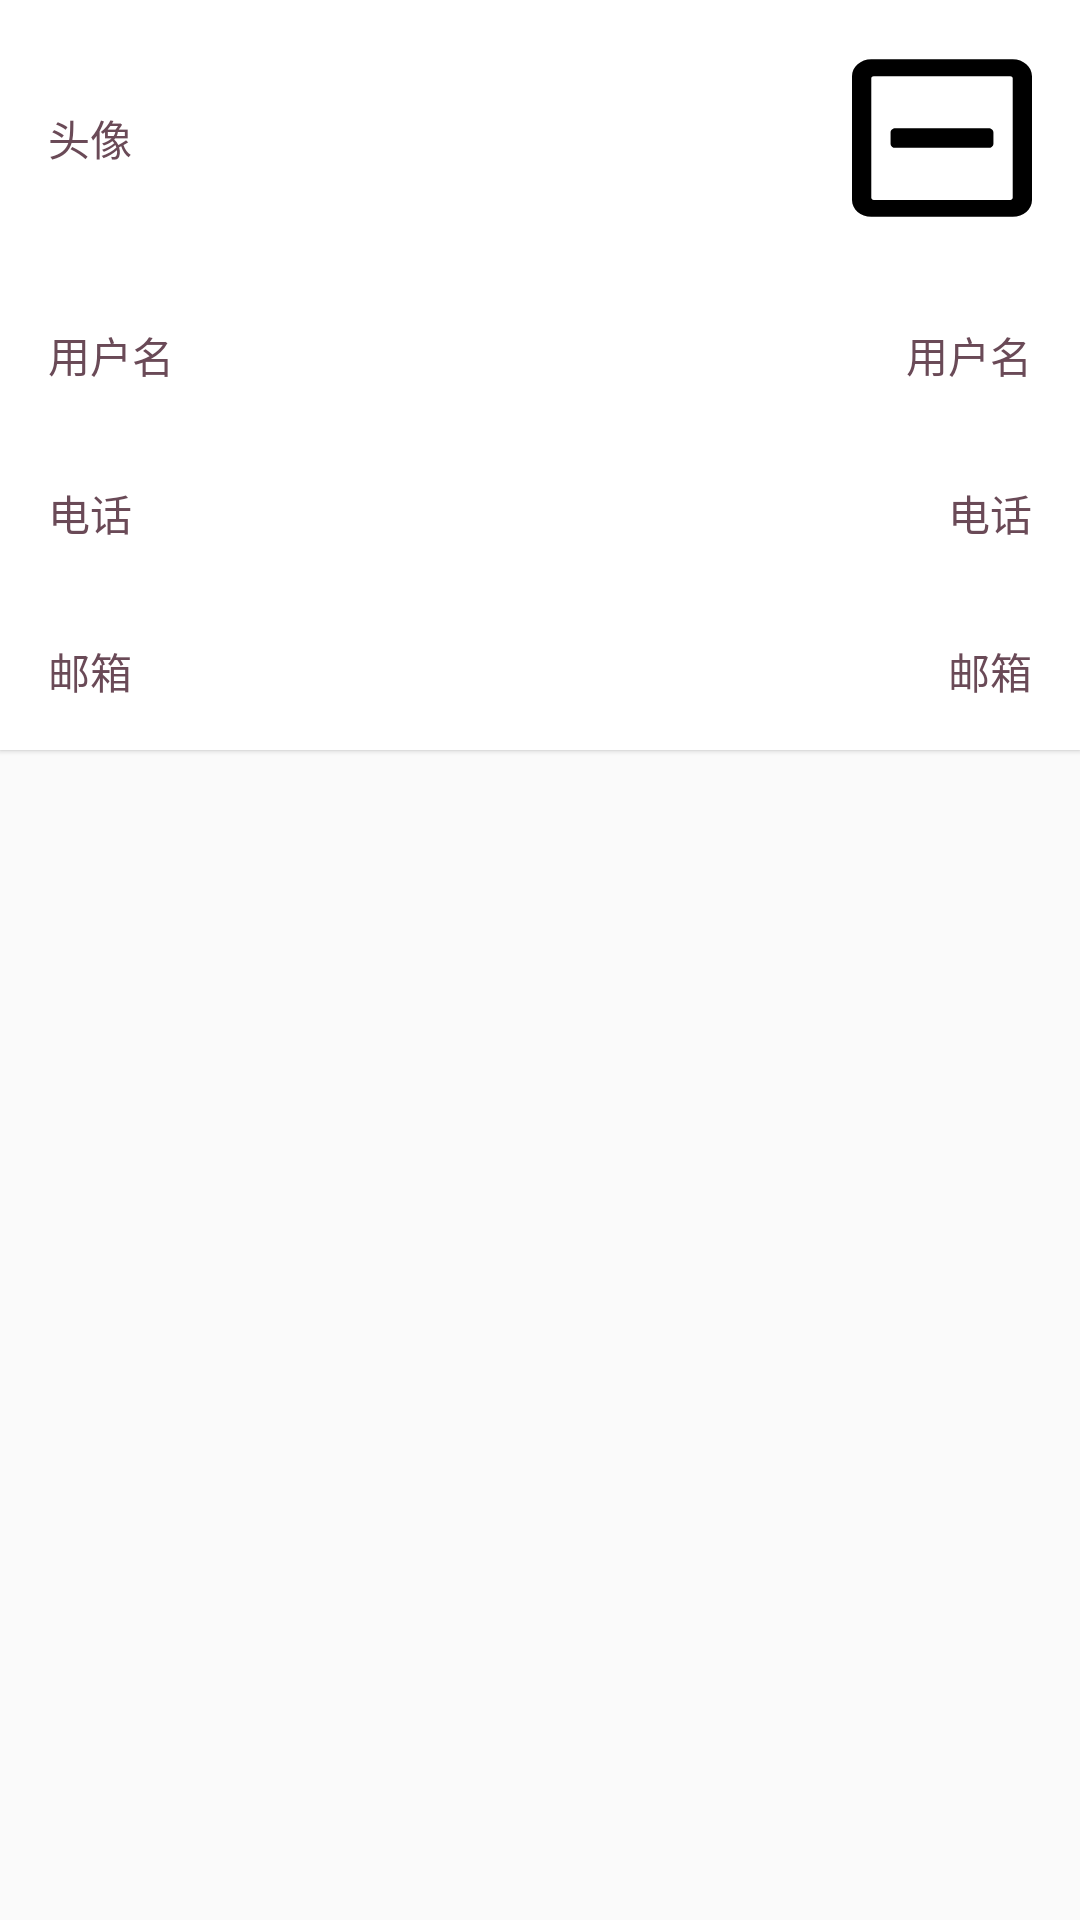

Icons on this 1080px x 1920px Android screen, each with the point to tap as (x,y):
web minus square: (942,138)
